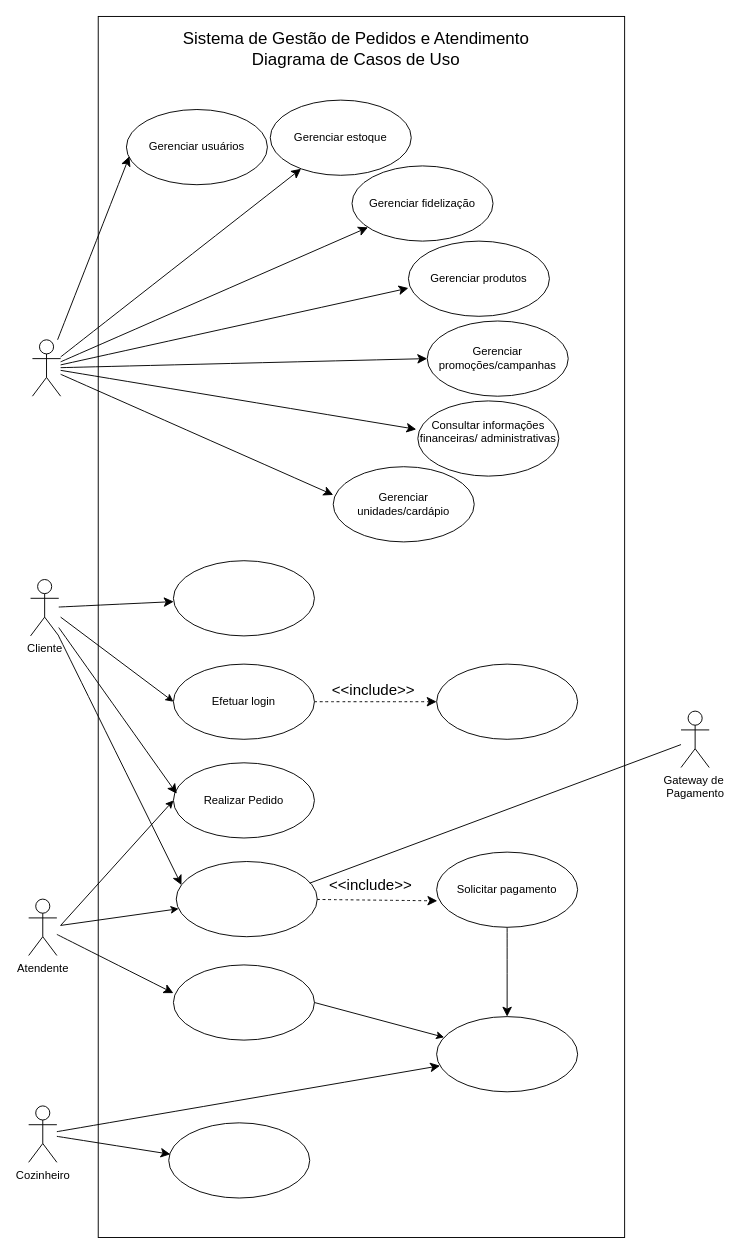
Image size: 743x1254. Some labels were removed from this diagram. Each missing label, with the centre of its shape:
Atualizar estado do pedido: the point at 507,1054
Cancelar pedido: the point at 243,1002
Efetuar pagamento: the point at 246,899
Gerente: the point at 46,367
Receber pedido: the point at 239,1160
Validar credenciais: the point at 507,701
Visualizar cardápio: the point at 243,598
